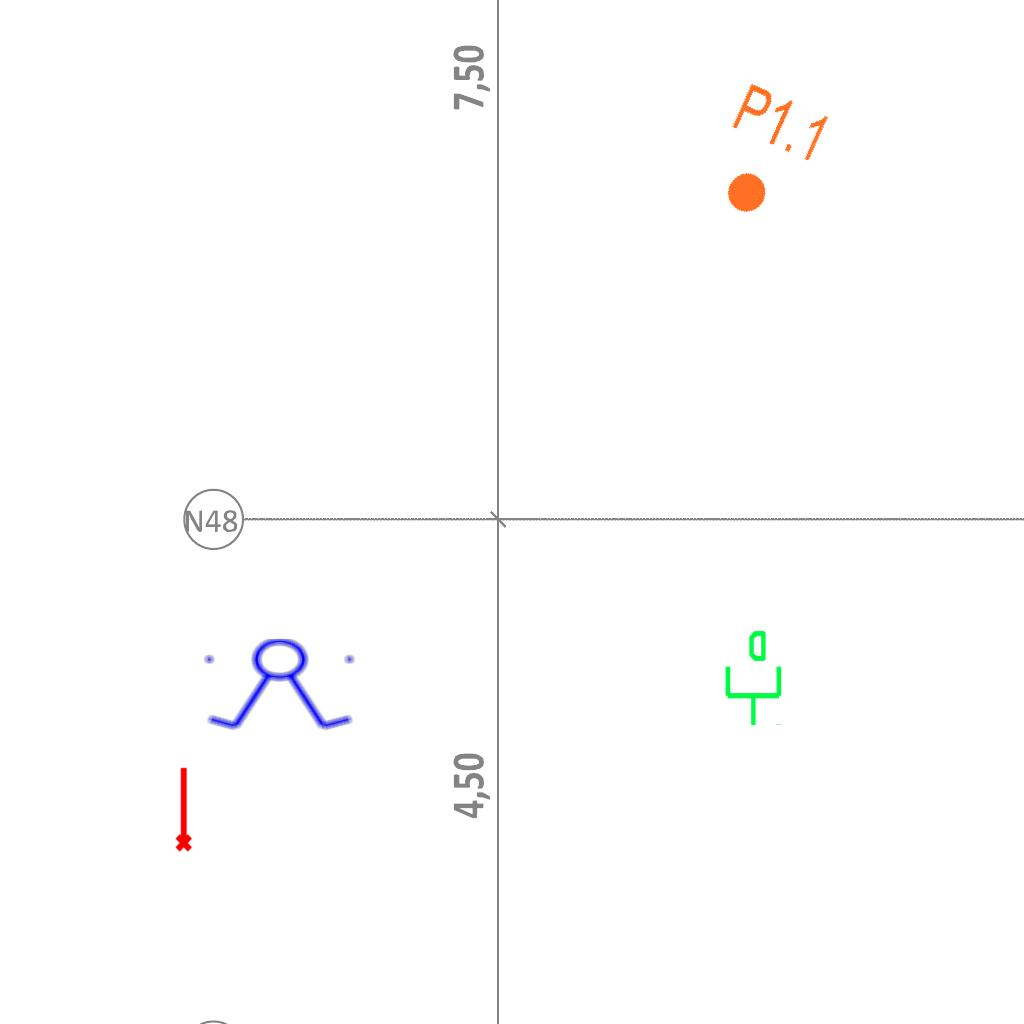ASR_Ansaugoeffnung: (171, 765, 194, 853)
Datenanschluss_einfach: (717, 628, 786, 728)
Downlight_LED_Einbauleuchten_Flur: (697, 78, 836, 234)
Serienschalter: (197, 637, 365, 733)
